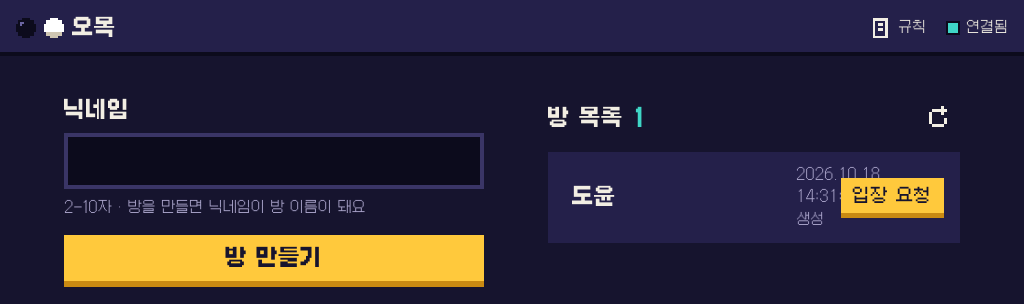
it: HomeScreen › 입장 요청 › 닉네임이 없으면 요청하지 않고 입력칸으로 보내요
The image size is (1024, 304).
Click the button with aria-label "도윤 방에 입장 요청": point(892, 198) [841,178,944,218]
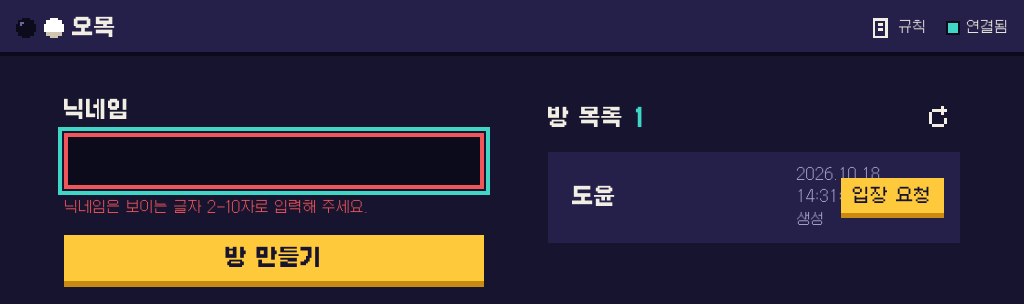
expect the text "닉네임은 보이는 글자 2–10자로 입력해 주세요." is shown: met, box [64,199,368,216]
